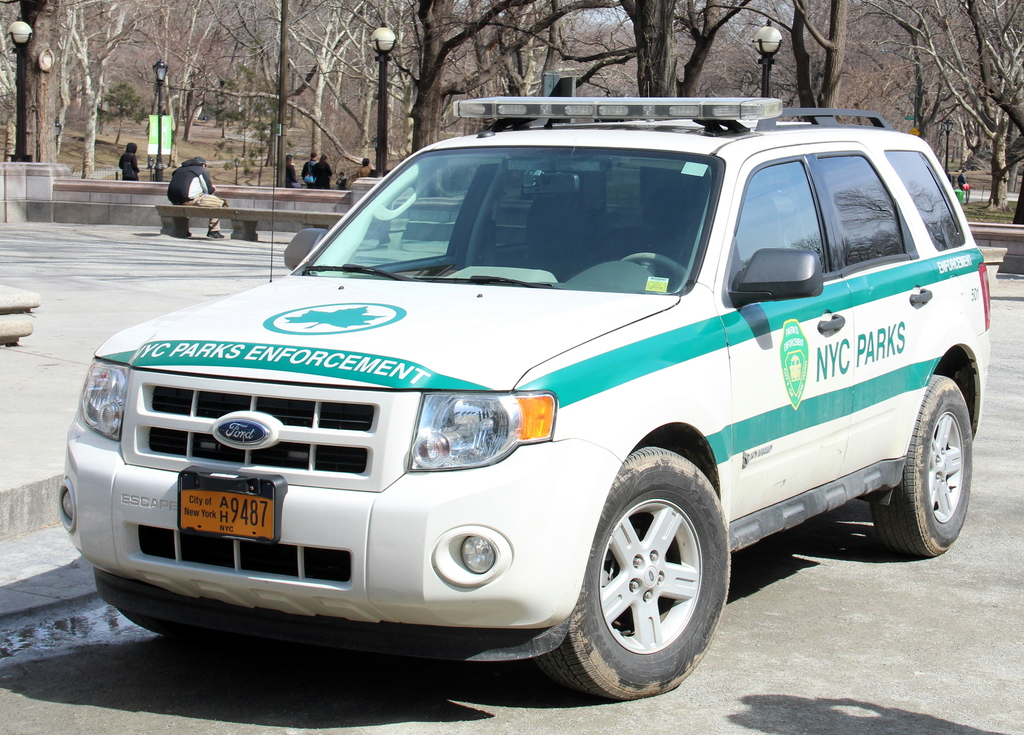Tree: (0, 0, 1024, 224)
